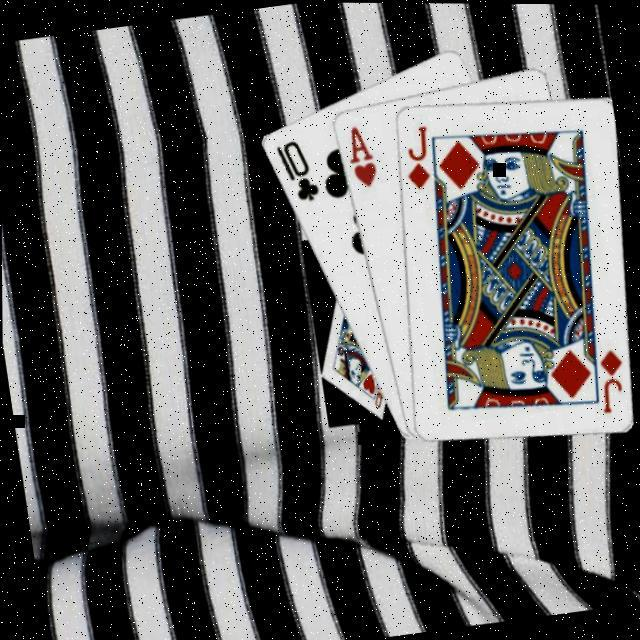10C: (273, 132, 324, 205)
AH: (343, 118, 383, 188)
JD: (398, 118, 439, 190), (592, 341, 633, 413)
